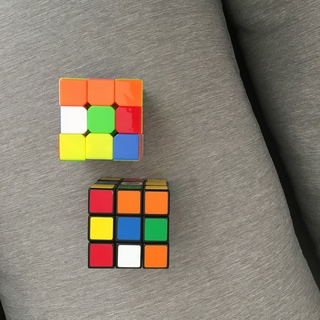face: (58, 76, 141, 161), (87, 187, 168, 270)
